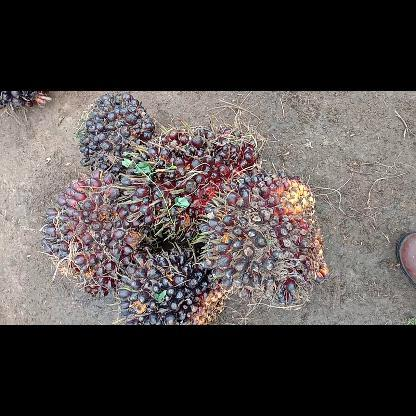TBS mentah: (196, 169, 332, 308), (114, 123, 262, 241), (40, 166, 150, 300), (116, 244, 228, 324), (74, 90, 158, 176)
